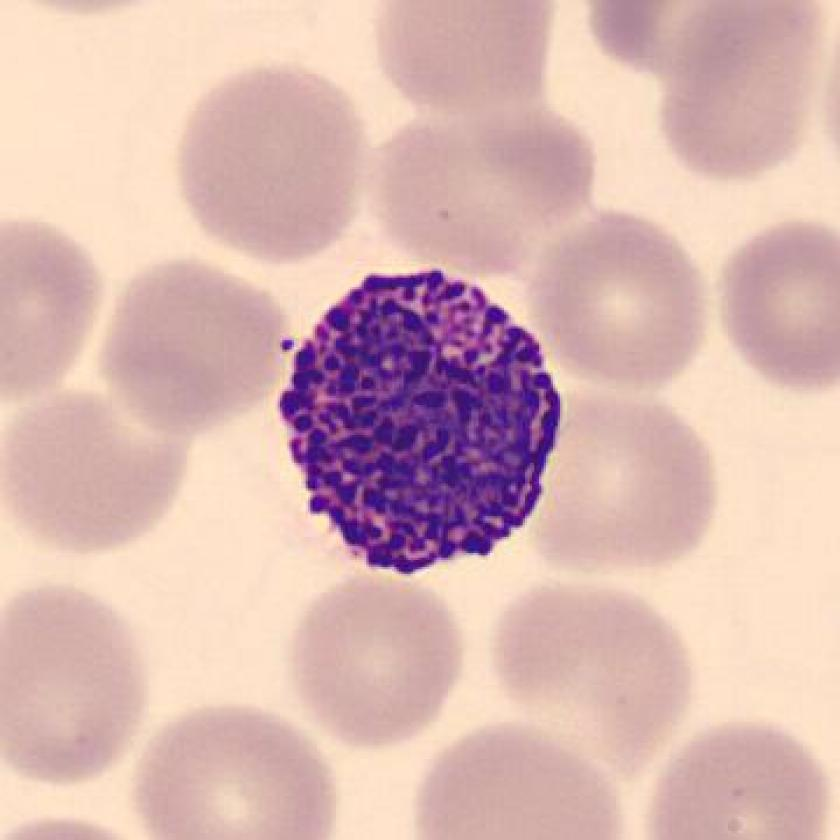basophil: (253, 239, 584, 596)
